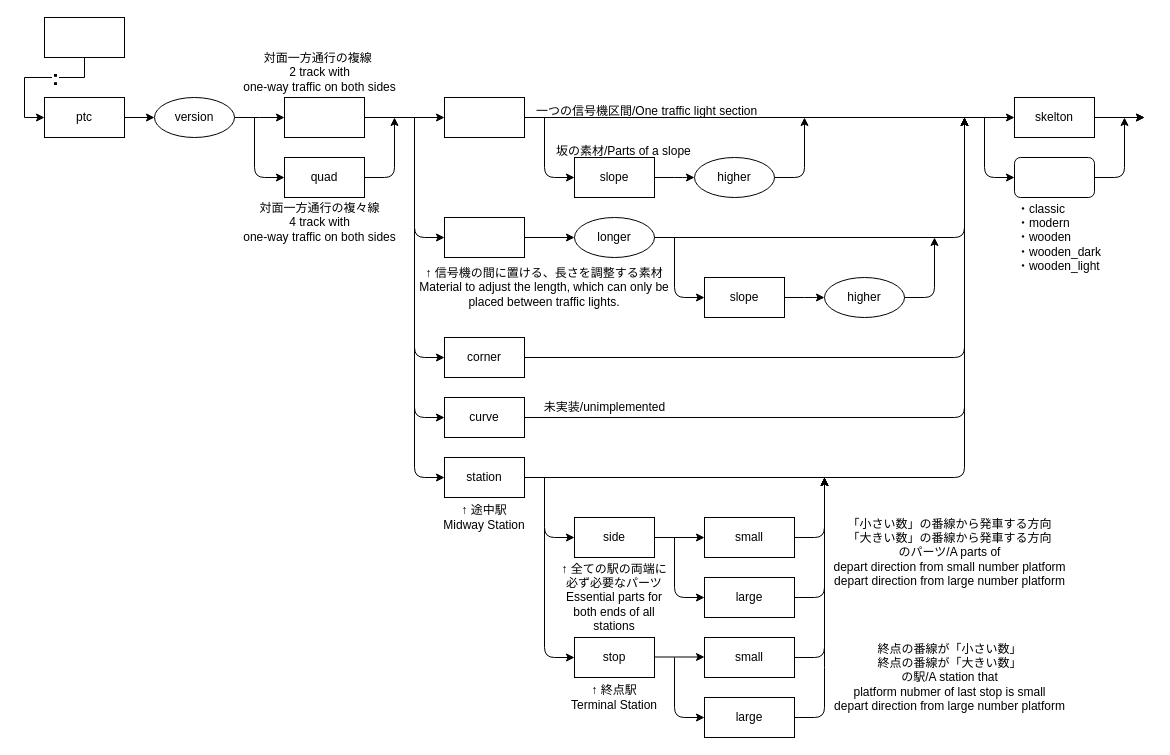
Image size: 1170x755. Some labels were removed from this diagram. The box of each missing label's shape, as (x1, y1, x2, y2) in pixels:
bumper: (444, 216, 524, 258)
design name: (1014, 156, 1094, 198)
dual: (284, 96, 364, 138)
minecraft: (44, 16, 124, 58)
section: (444, 96, 524, 138)
